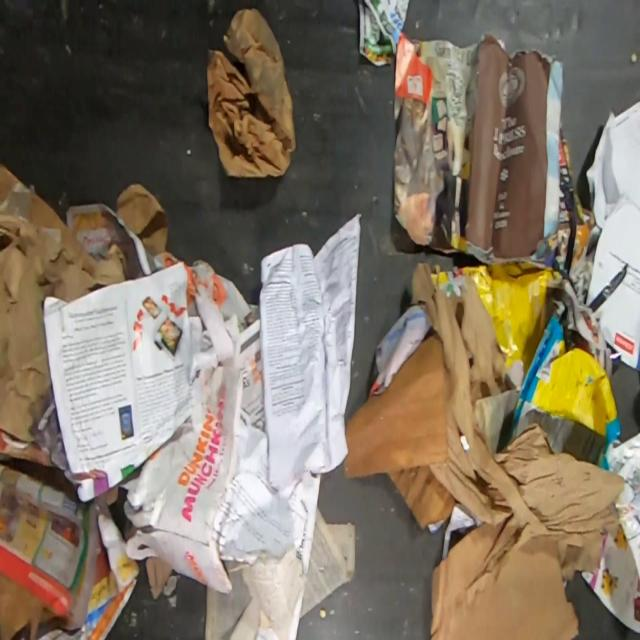cardboard: (126, 361, 246, 594), (430, 521, 604, 639), (430, 262, 562, 387), (207, 5, 297, 179), (346, 330, 450, 477), (516, 317, 622, 442), (145, 556, 171, 600)
